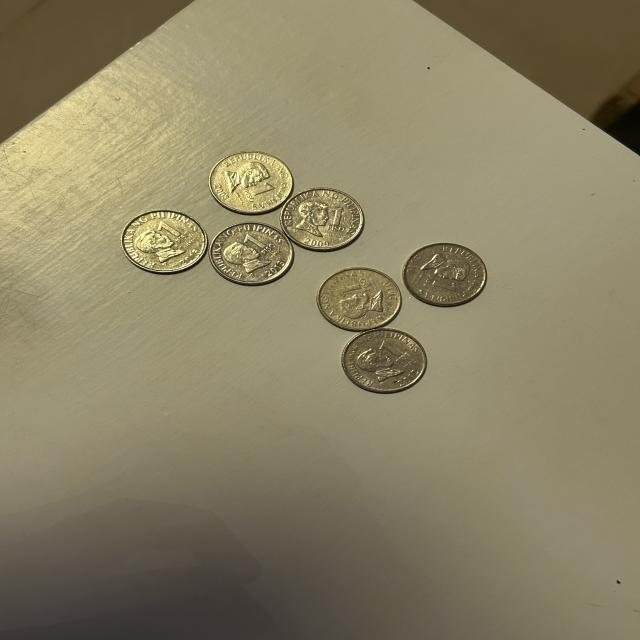1_Old_Front: (374, 336, 414, 366), (151, 218, 193, 246), (240, 230, 282, 258), (421, 270, 461, 297), (323, 204, 351, 235), (334, 278, 374, 299), (242, 183, 277, 203)
